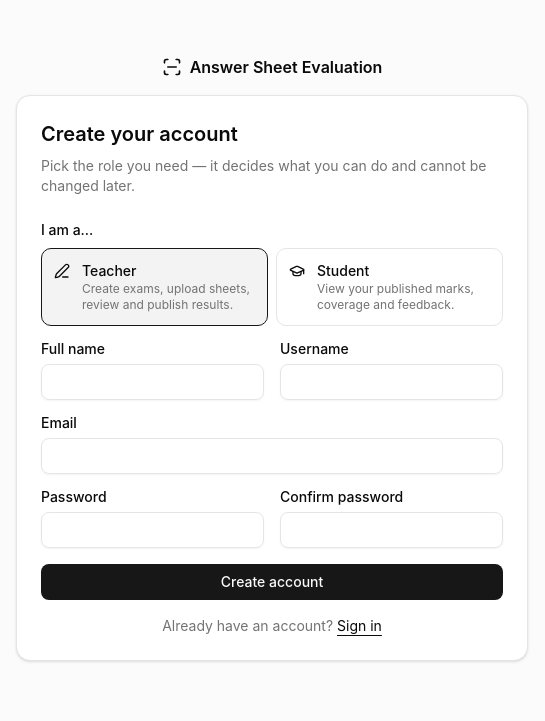
Test: Signup › rejects a short password
Type "short" into the password field labelled "Password" at (152,530), box [41, 512, 264, 548]
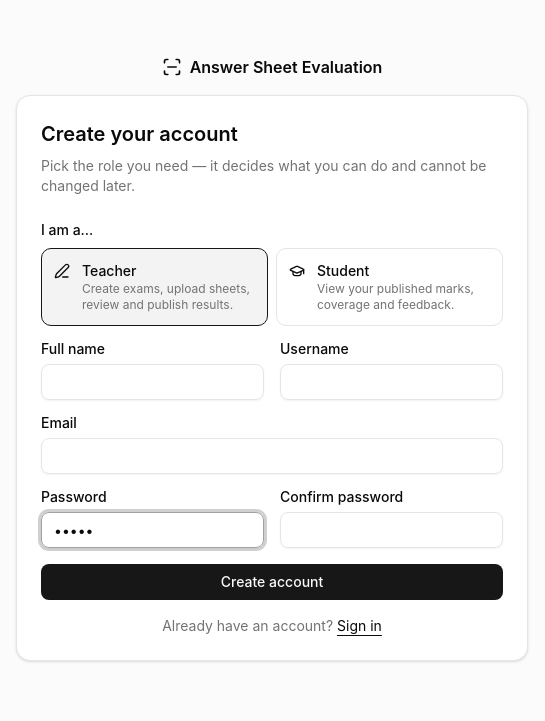
Click the button "Create account" at (272,582), box [41, 564, 503, 600]
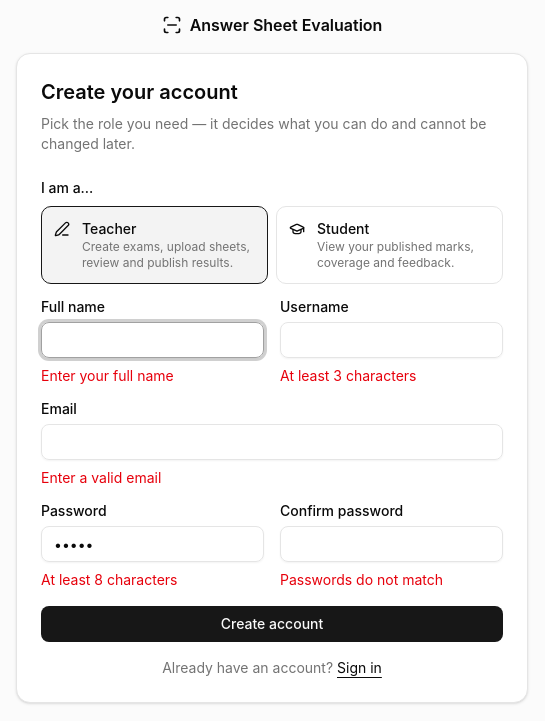
Expected: the text "At least 8 characters" is shown, [41, 571, 178, 588]
